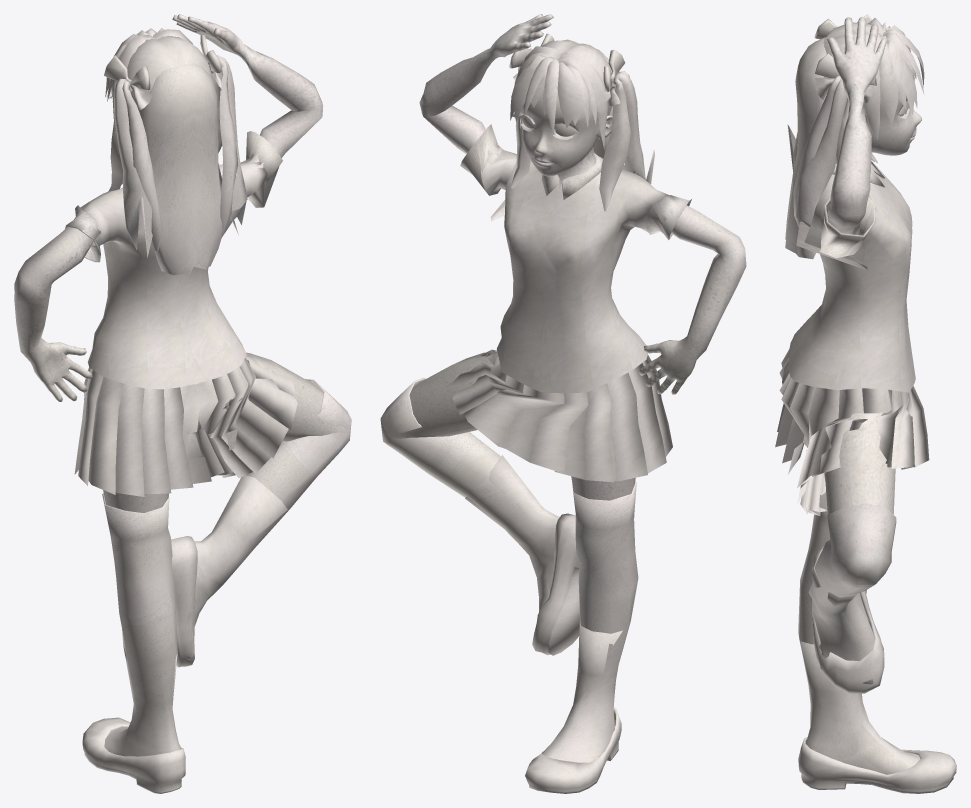
Rendered from Ballerina2.FBX.
3 views of the same model, side by side, from view 1: azimuth 30°, elevation 25°; view 2: azimuth 150°, elevation 25°; view 3: azimuth 270°, elevation 25° (orthographic). The views are drawn at different scales.
Visible parts, largest first — view 1: Ballerina; view 2: Ballerina; view 3: Ballerina.
Part boxes in pixels (<box>): Ballerina: <box>14,14,351,793</box>; Ballerina: <box>380,14,746,793</box>; Ballerina: <box>775,14,956,793</box>.
Size of the model in its own units: 0.8024 by 1.65 by 0.3471.
Materials: 1 (1 with a texture image).
